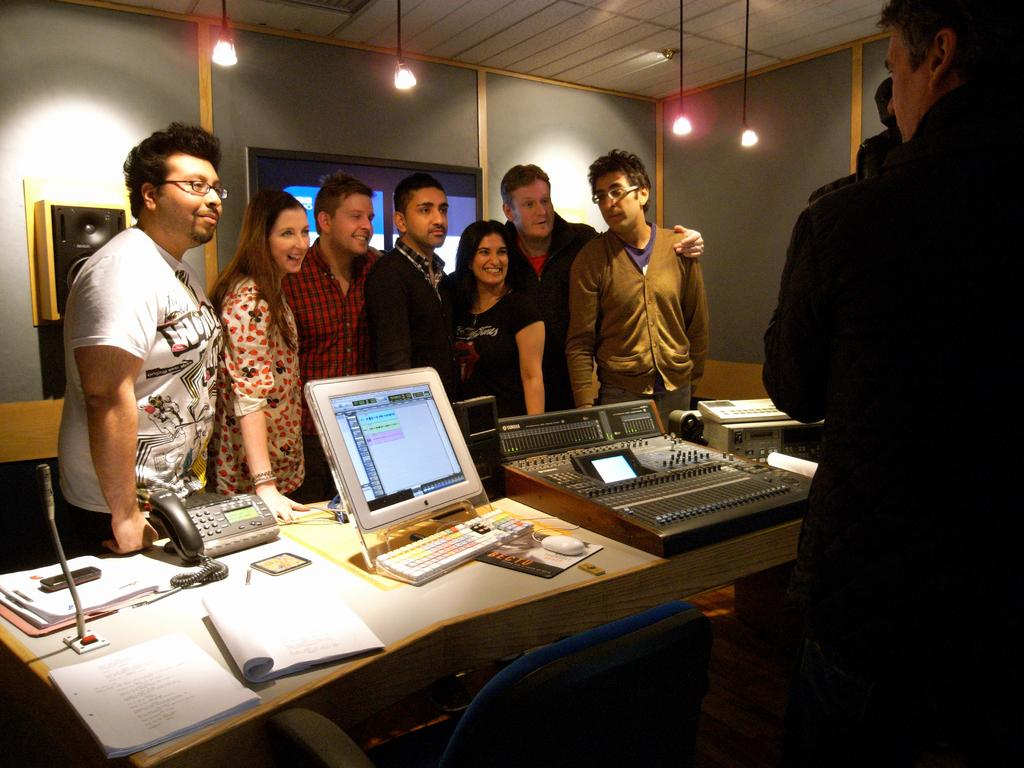Computer-keyboard: (377, 511, 532, 586)
